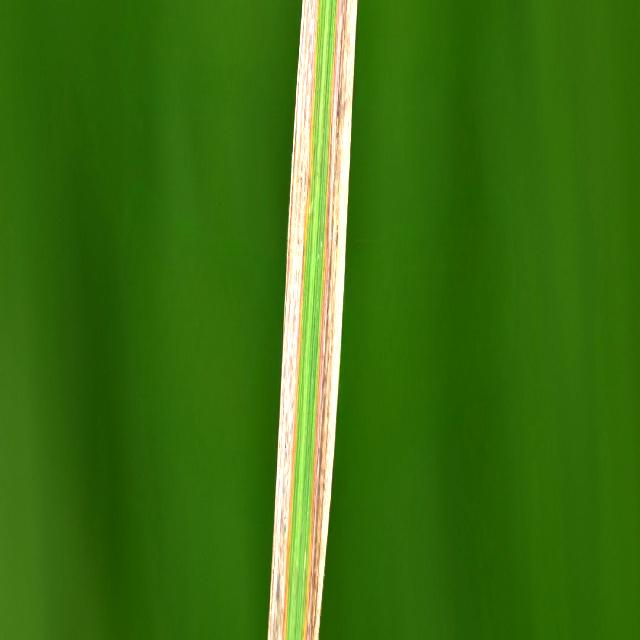BLB: (302, 0, 357, 640), (268, 0, 319, 640)
